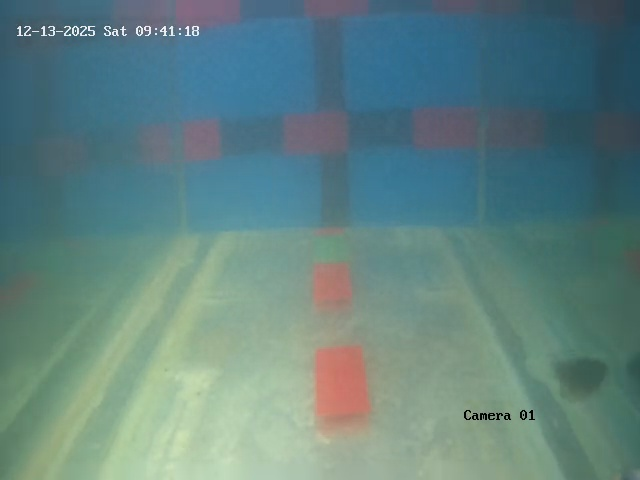fish: (549, 347, 610, 400)
